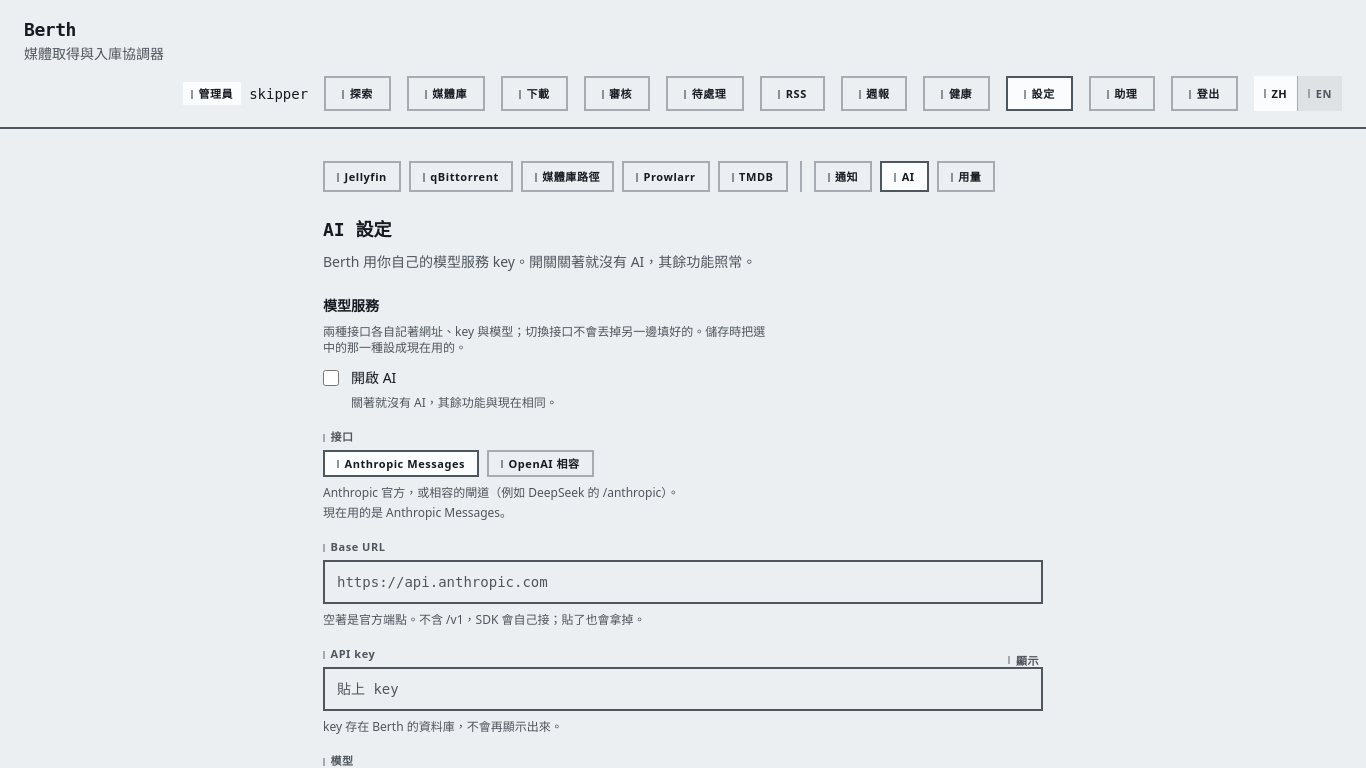
Test: 設定 → AI › key_missing：標在 key 欄下；改了 key 欄就收掉
Click the checkbox labelled "開啟 AI": {"x": 331, "y": 378} [323,370,339,386]
(page scrolled)
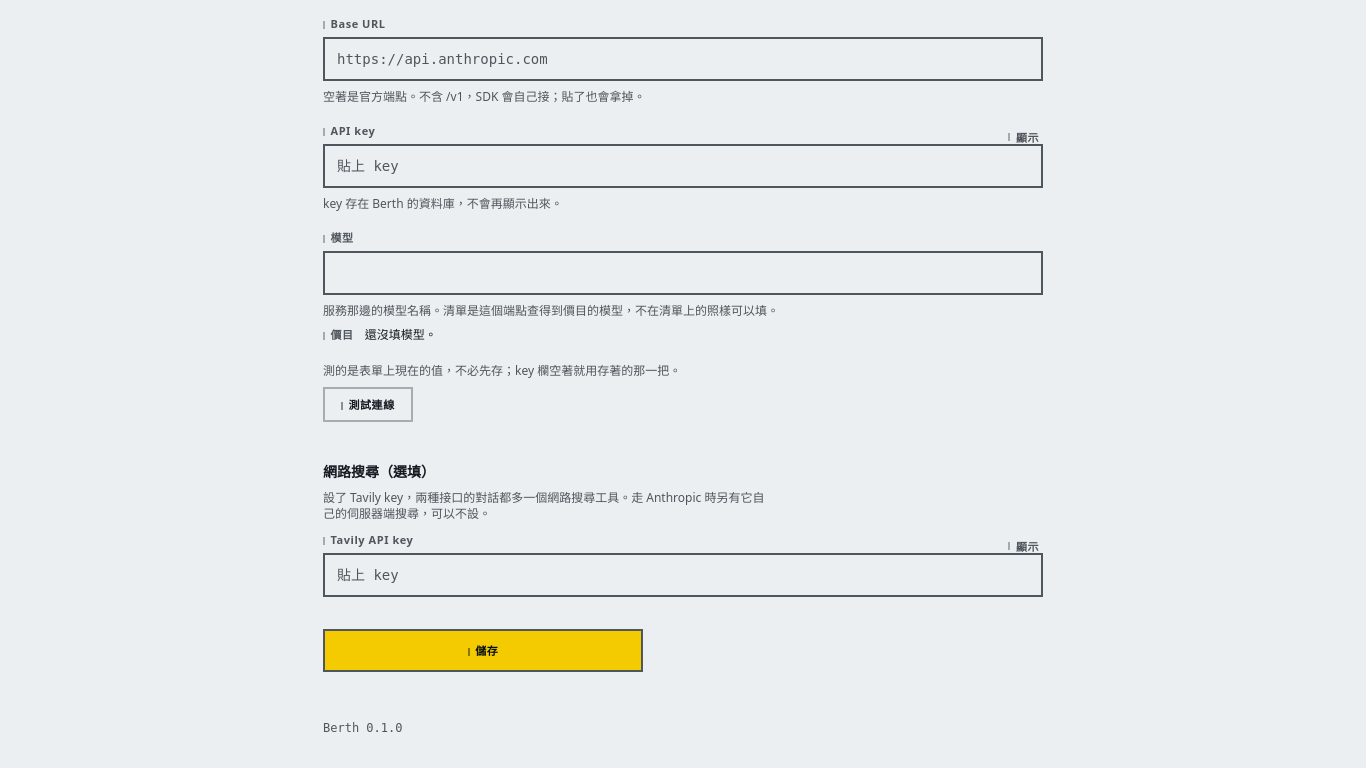
Click the button "儲存": {"x": 483, "y": 651} [323,629,643,672]
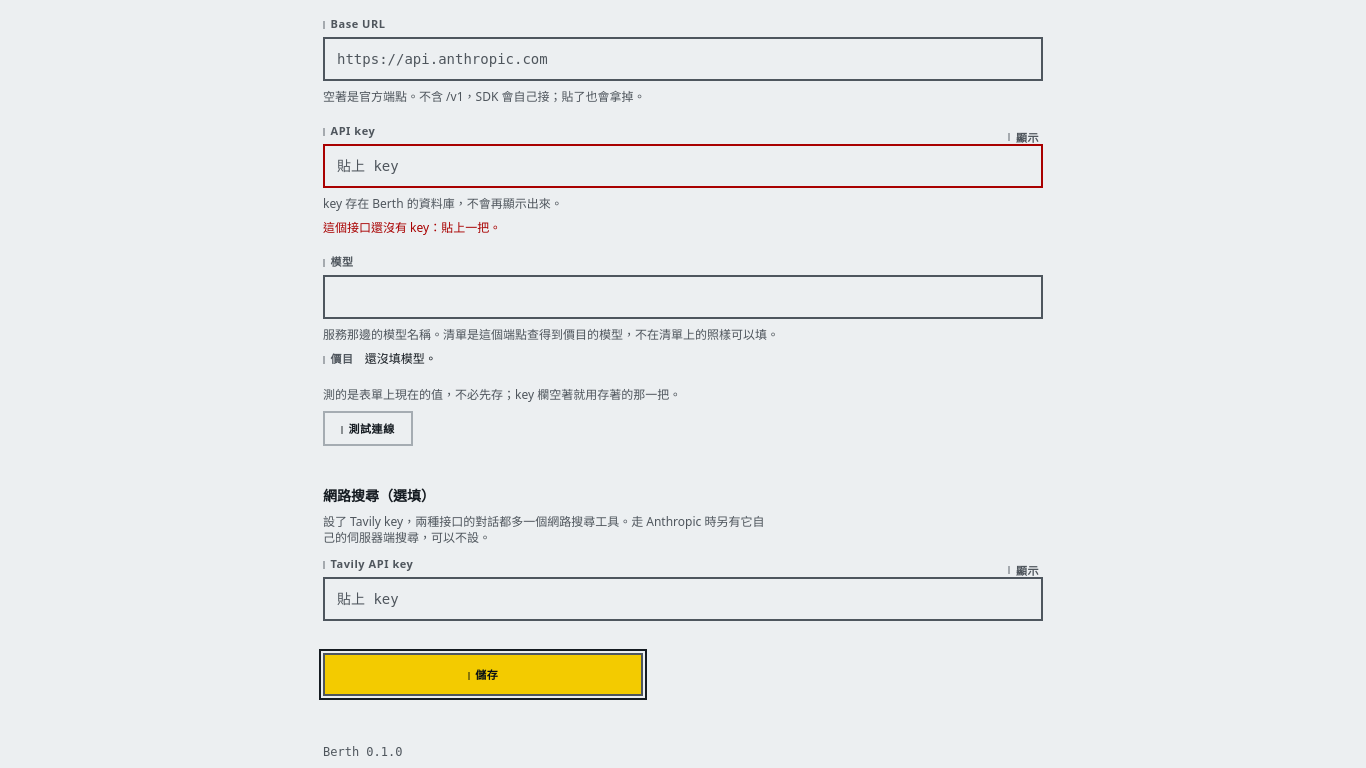
Expected: the text "這個接口還沒有 key：貼上一把。" is shown, [323,219,501,236]
In the password field labelled "API key": {"x": 683, "y": 166} [323,144,1043,188], type "k"
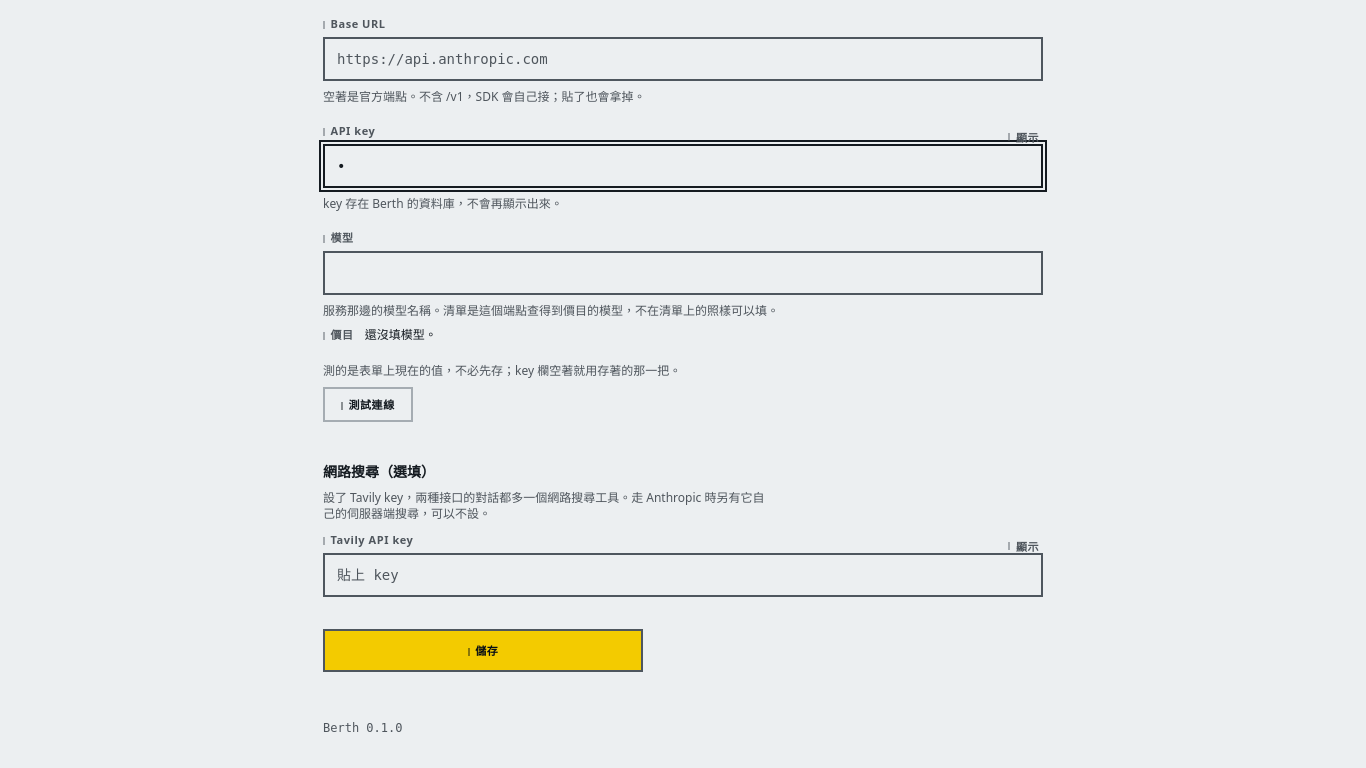
Expected: the text "這個接口還沒有 key：貼上一把。" is gone
